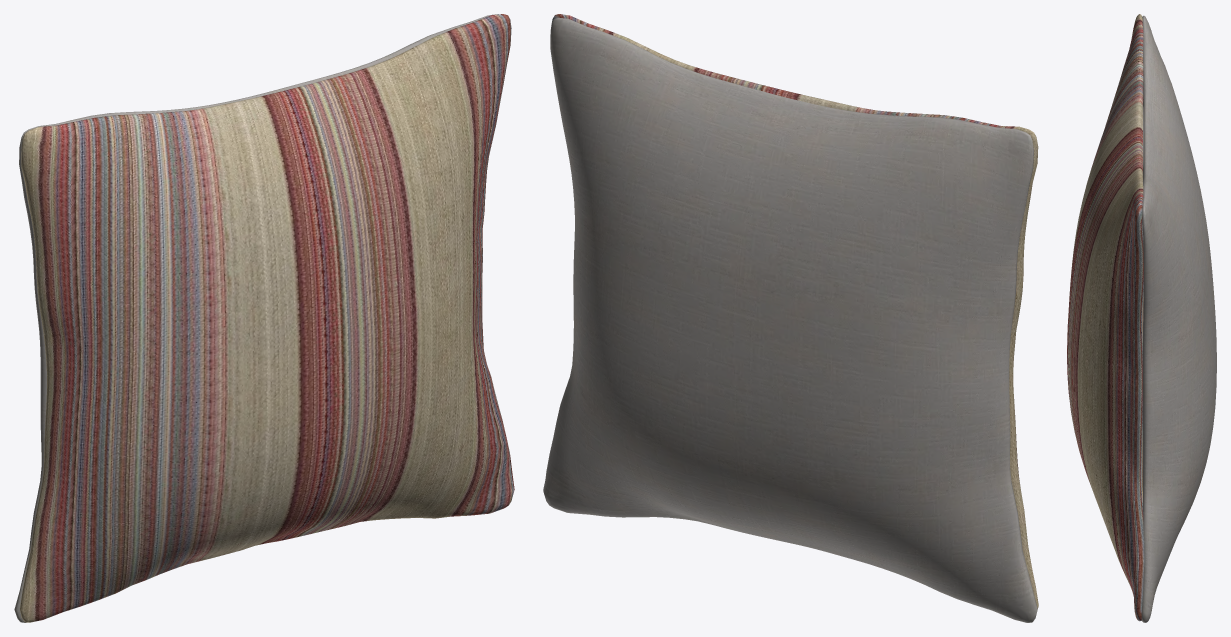
The model's file is B074VLST1P.glb.
3 views of the same model, side by side, from view 1: azimuth 30°, elevation 25°; view 2: azimuth 150°, elevation 25°; view 3: azimuth 270°, elevation 25° (orthographic). The views are drawn at different scales.
Visible parts, largest first — view 1: RootNode; view 2: RootNode; view 3: RootNode.
Part boxes in pixels (x1=…): RootNode: x1=14, y1=14, x2=514, y2=622; RootNode: x1=543, y1=14, x2=1038, y2=622; RootNode: x1=1067, y1=14, x2=1216, y2=622.
Bounding box in the file's own units: 0.437 × 0.4189 × 0.1363.
1 material, 1 textured.
